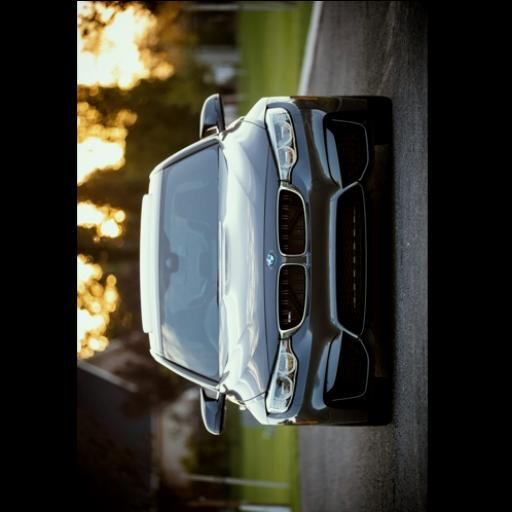sedan: (140, 93, 390, 432)
